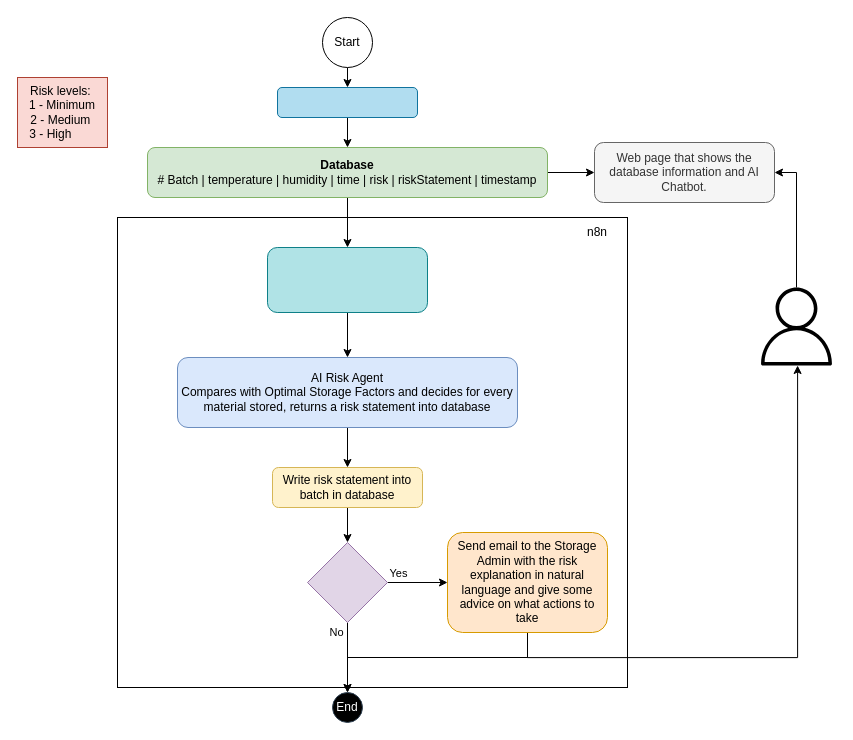
Image size: 853x740. Some labels were removed from this diagram. Each missing label, with the centre of its shape:
Batch data is created: the point at 347,102
Compute the parameters deviation from the optimal factors in a batch: the point at 347,279
System User: the point at 796,326
¿Risk > 1?: the point at 347,582
